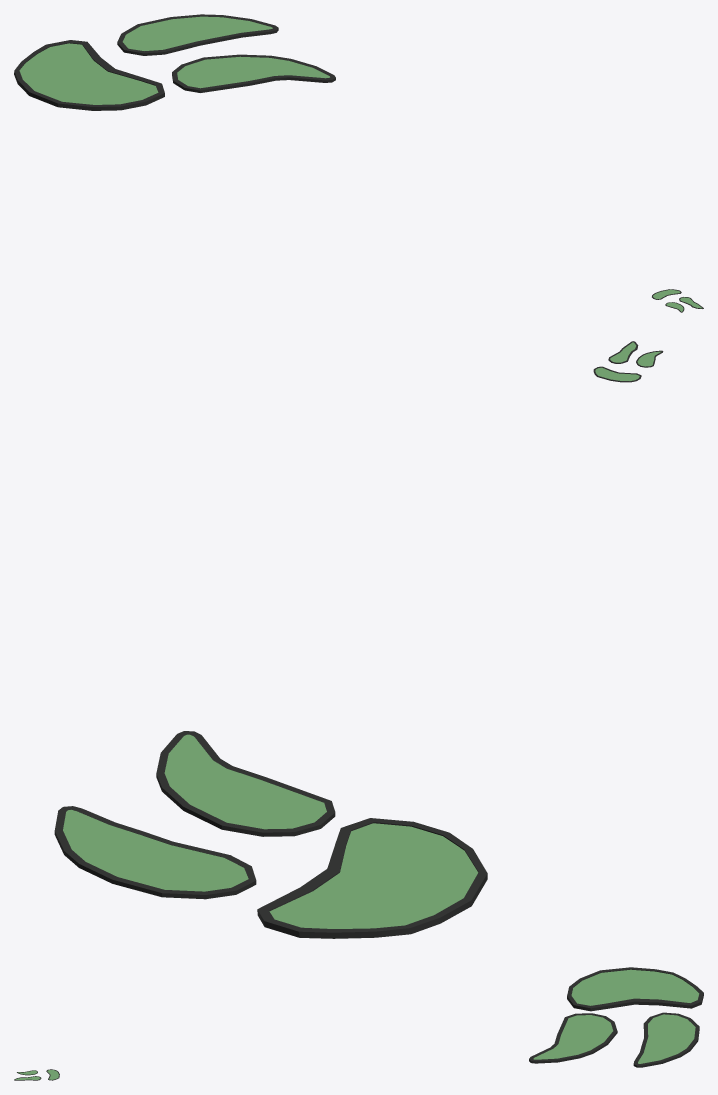
Rendered from Fields.fbx.
The picture shows the model from 3 angles, top to bottom: view 1: azimuth 30°, elevation 25°; view 2: azimuth 150°, elevation 25°; view 3: azimuth 270°, elevation 25°; orthographic projection. The views are drawn at different scales.
Visible parts, largest first — view 1: pCube171, pCube172, pCube170; view 2: pCube171, pCube172, pCube170; view 3: pCube171, pCube170, pCube172.
Boxes of the visible parts, x1,y1,x2,y2 form: pCube171: [14, 40, 164, 110]; pCube172: [117, 14, 278, 55]; pCube170: [172, 54, 335, 92]; pCube171: [257, 818, 487, 938]; pCube172: [54, 806, 256, 899]; pCube170: [156, 731, 335, 836]; pCube171: [567, 967, 703, 1011]; pCube170: [529, 1013, 617, 1063]; pCube172: [633, 1012, 699, 1067].
Size of the model in its own units: 1406 by 30.51 by 3679.
